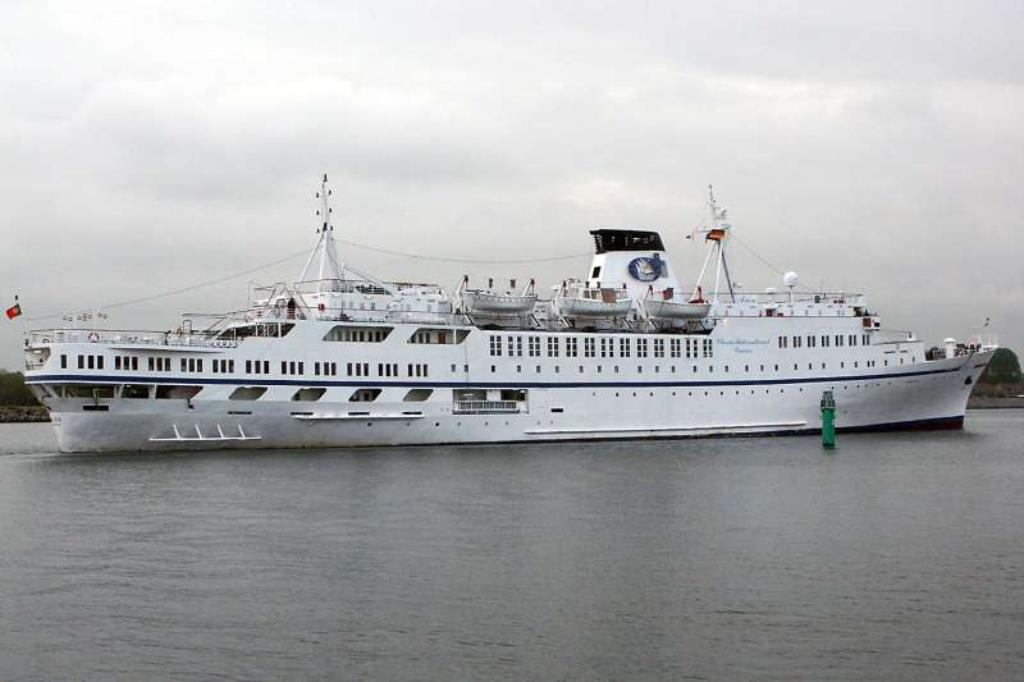PassengerShip: (20, 178, 1002, 452)
